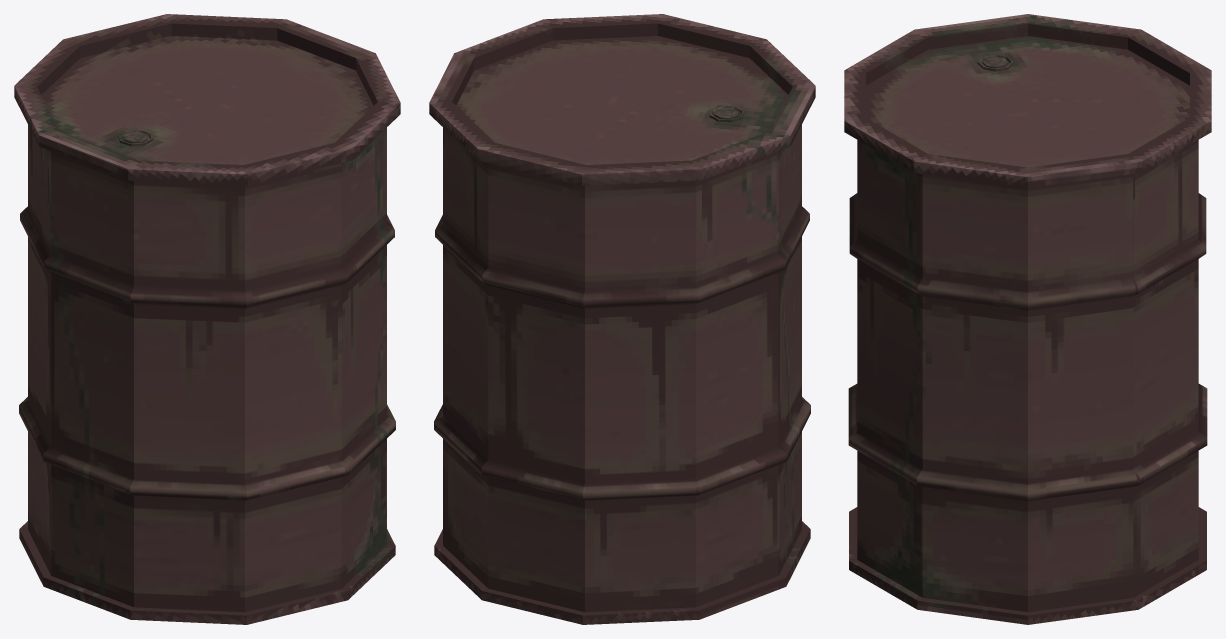
File: explosivebarrel 1.fbx
The picture shows the model from 3 angles, left to right: view 1: azimuth 30°, elevation 25°; view 2: azimuth 150°, elevation 25°; view 3: azimuth 270°, elevation 25°; orthographic projection.
Parts seen in each view (by area): view 1: explosivebarrel; view 2: explosivebarrel; view 3: explosivebarrel.
Boxes of the visible parts, x1,y1,x2,y2 form: explosivebarrel: (14, 14, 400, 624); explosivebarrel: (429, 14, 815, 624); explosivebarrel: (844, 14, 1211, 624).
Bounding box in the file's own units: 2.43 × 3.12 × 2.31.
